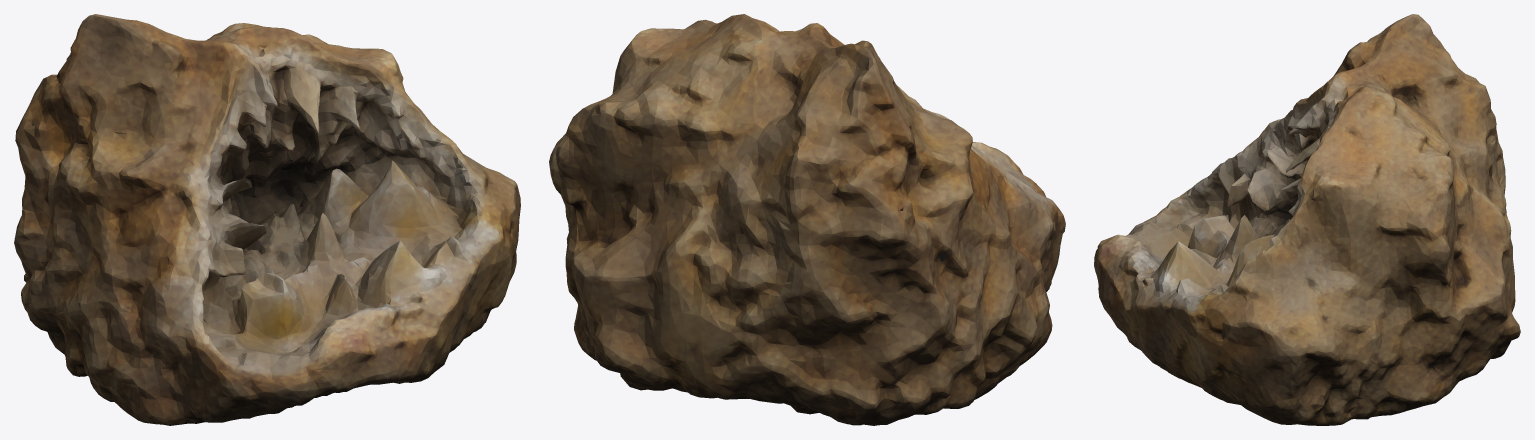
3 renders of one model, left to right at view 1: azimuth 30°, elevation 25°; view 2: azimuth 150°, elevation 25°; view 3: azimuth 270°, elevation 25°, orthographic. The views are drawn at different scales.
Visible parts, largest first — view 1: geometry_0; view 2: geometry_0; view 3: geometry_0, Reversible_Rock_Skin_rim-upper.
Boxes of the visible parts, x1=… form: geometry_0: x1=14, y1=14, x2=520, y2=425; geometry_0: x1=549, y1=14, x2=1065, y2=425; geometry_0: x1=1094, y1=14, x2=1520, y2=425; Reversible_Rock_Skin_rim-upper: x1=1300, y1=209, x2=1321, y2=238.
Bounding box in the file's own units: 0.8191 × 0.6183 × 0.7916.
9 materials, 9 textured.
